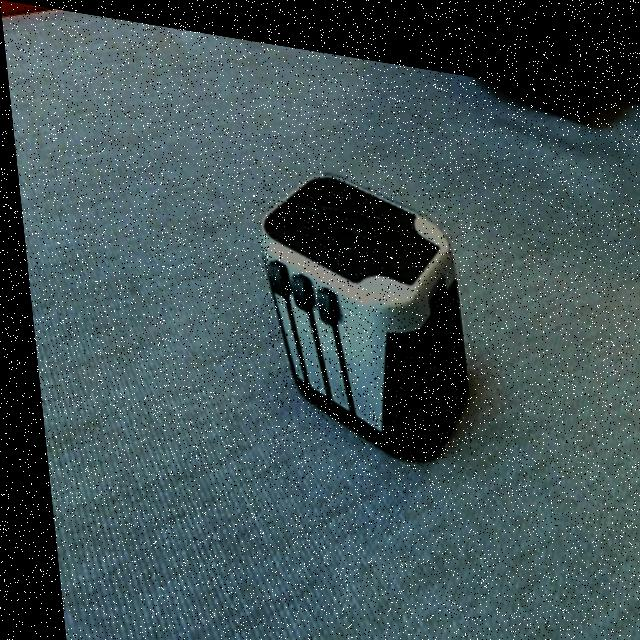adapter: (248, 151, 469, 457)
